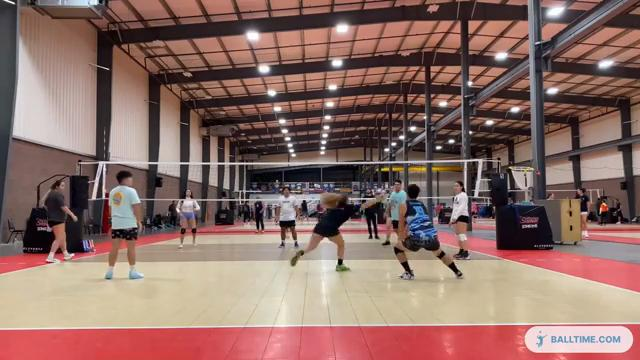difesa: (379, 181, 467, 281), (285, 188, 386, 273)
